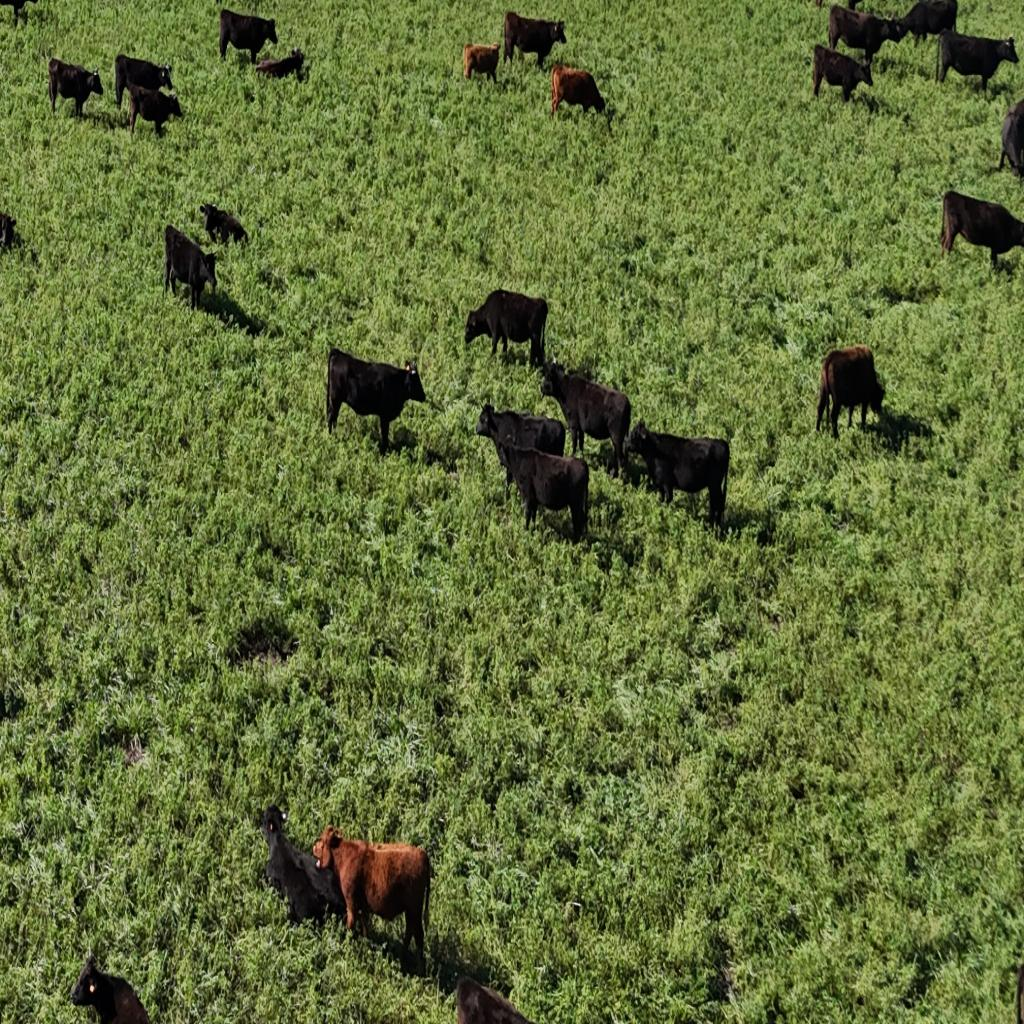cow: (316, 825, 432, 956), (626, 421, 730, 529), (326, 348, 428, 455), (260, 805, 348, 929), (542, 359, 628, 480), (494, 439, 600, 535), (816, 344, 886, 440), (70, 945, 155, 1024), (465, 288, 549, 367), (940, 191, 1024, 270), (478, 399, 569, 468), (111, 20, 177, 106), (938, 30, 1018, 94), (162, 224, 218, 312), (828, 3, 900, 60), (456, 974, 537, 1022), (504, 9, 568, 69), (812, 44, 874, 104), (48, 57, 105, 120), (125, 81, 181, 140), (219, 8, 277, 64), (890, 0, 958, 45), (548, 63, 603, 117), (200, 202, 248, 248), (998, 94, 1024, 177), (255, 49, 304, 81), (463, 42, 500, 83), (0, 1, 39, 31), (0, 210, 17, 253)
